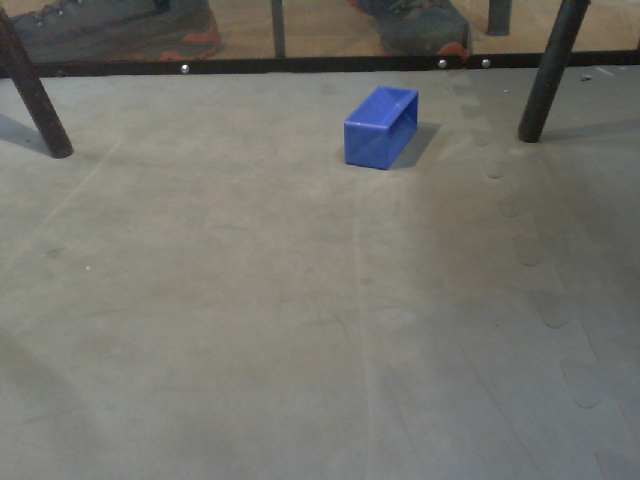BlueSample: (340, 83, 420, 172)
